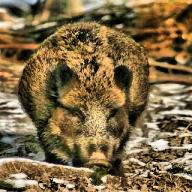boar: (16, 21, 150, 176)
